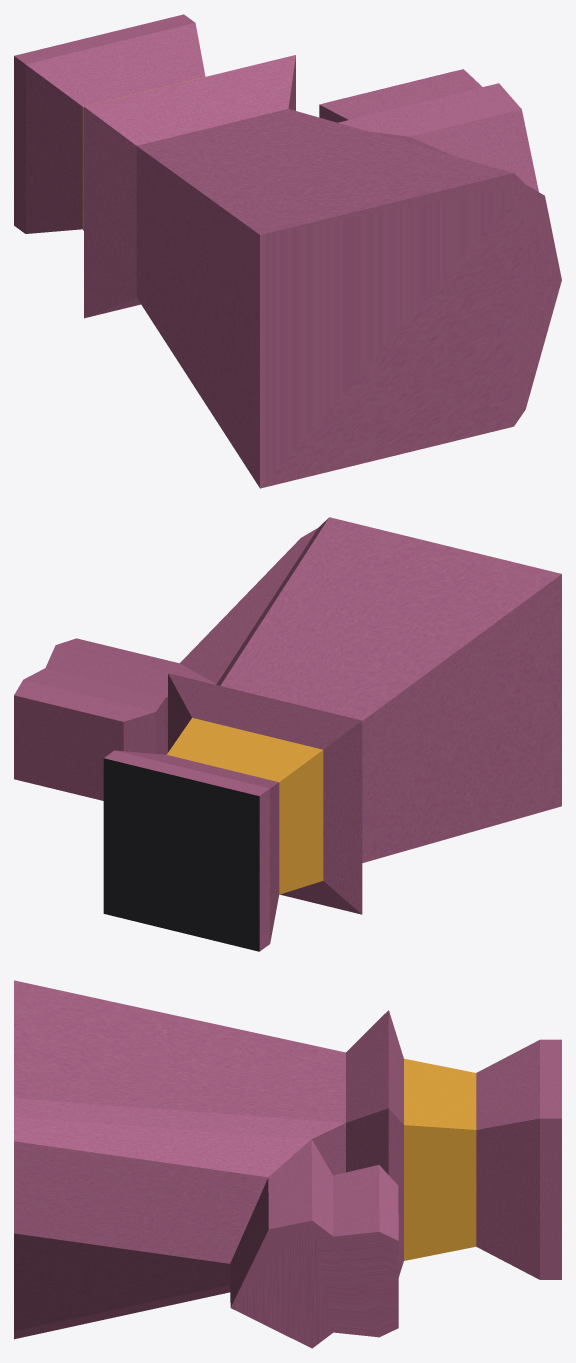
Rendered from death_pink_gate.fbx.
3 renders of one model, top to bottom at view 1: azimuth 30°, elevation 25°; view 2: azimuth 150°, elevation 25°; view 3: azimuth 270°, elevation 25°, orthographic. The views are drawn at different scales.
Visible parts, largest first — view 1: desert_castle.001; view 2: desert_castle.001; view 3: desert_castle.001.
Part boxes in pixels (x1=…): desert_castle.001: x1=14, y1=14, x2=561, y2=488; desert_castle.001: x1=14, y1=517, x2=561, y2=951; desert_castle.001: x1=14, y1=980, x2=561, y2=1348.
Size of the model in its own units: 271 by 166 by 342.
